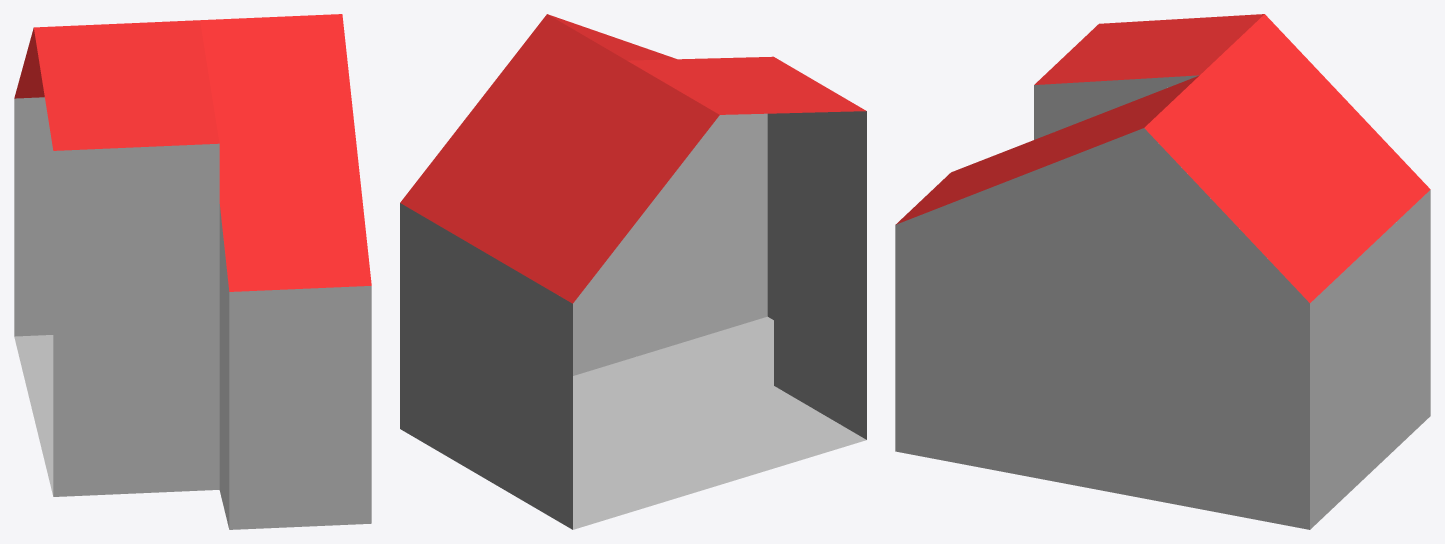
Rendered from pb-9635e7ee-7f36-11f0-a918-9c7bef4dcf4c.dae.
The picture shows the model from 3 angles, left to right: view 1: azimuth 30°, elevation 25°; view 2: azimuth 150°, elevation 25°; view 3: azimuth 270°, elevation 25°; orthographic projection. The views are drawn at different scales.
Bounding box in the file's own units: 9.2 × 11.78 × 9.
